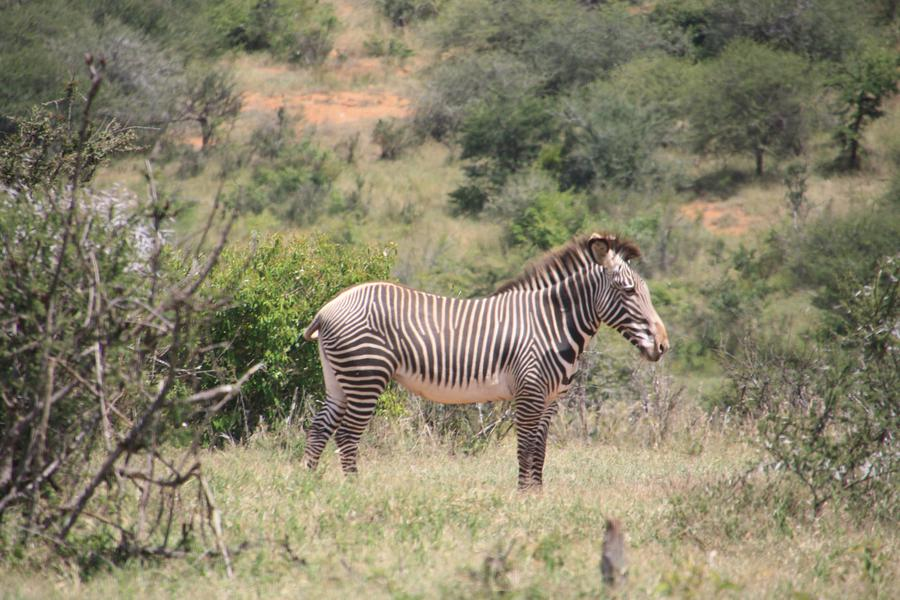zebra_grevys: (313, 276, 557, 387)
